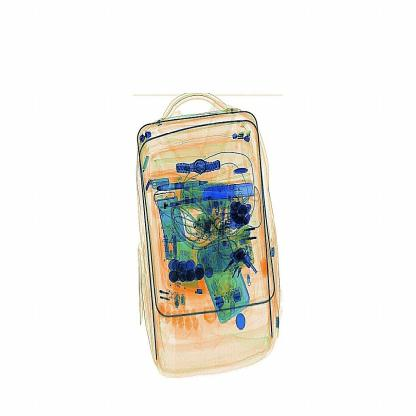pliers: (202, 184, 264, 205)
